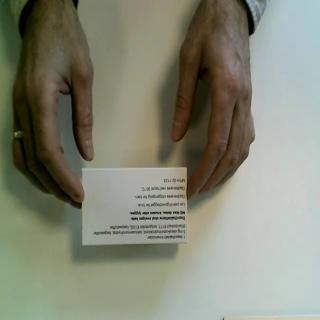oxycontin5mg: (80, 166, 190, 249)
